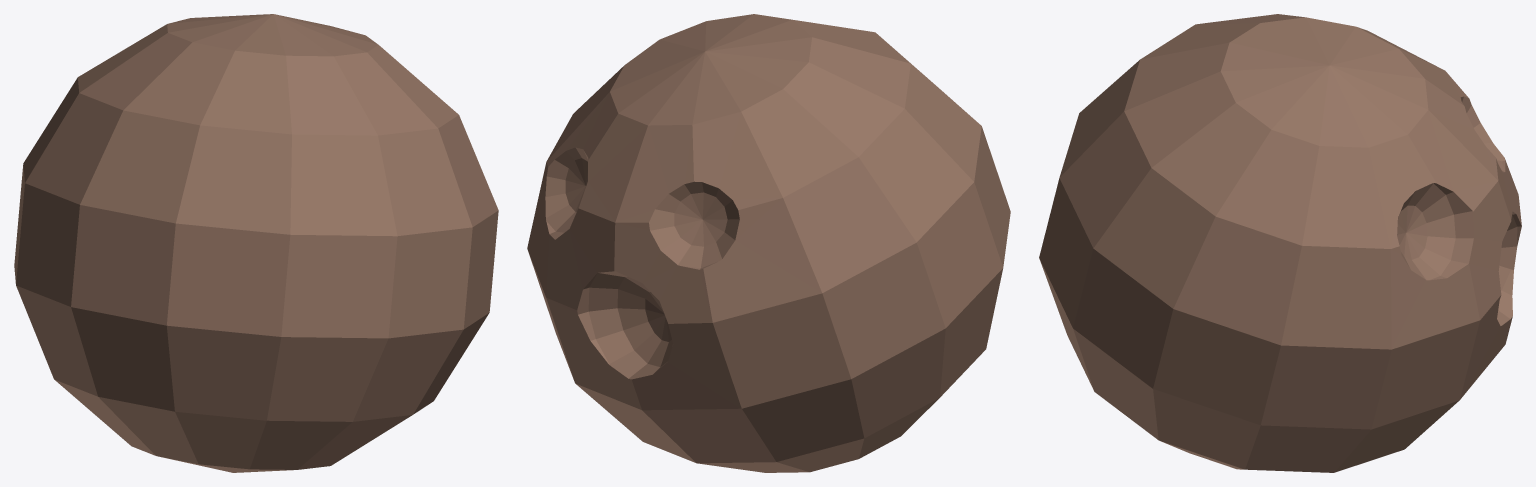
File: coco.fbx
3 renders of one model, left to right at view 1: azimuth 30°, elevation 25°; view 2: azimuth 150°, elevation 25°; view 3: azimuth 270°, elevation 25°, orthographic.
Parts seen in each view (by area): view 1: Coco; view 2: Coco; view 3: Coco.
Boxes of the visible parts, x1,y1,x2,y2 form: Coco: (14, 14, 498, 472); Coco: (527, 14, 1010, 472); Coco: (1039, 14, 1521, 472).
Size of the model in its own units: 126 by 118 by 125.
